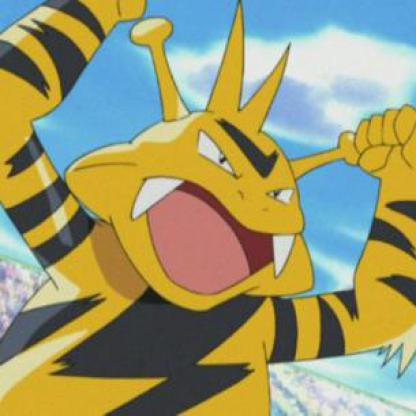Electabuzz: (1, 1, 416, 408)
